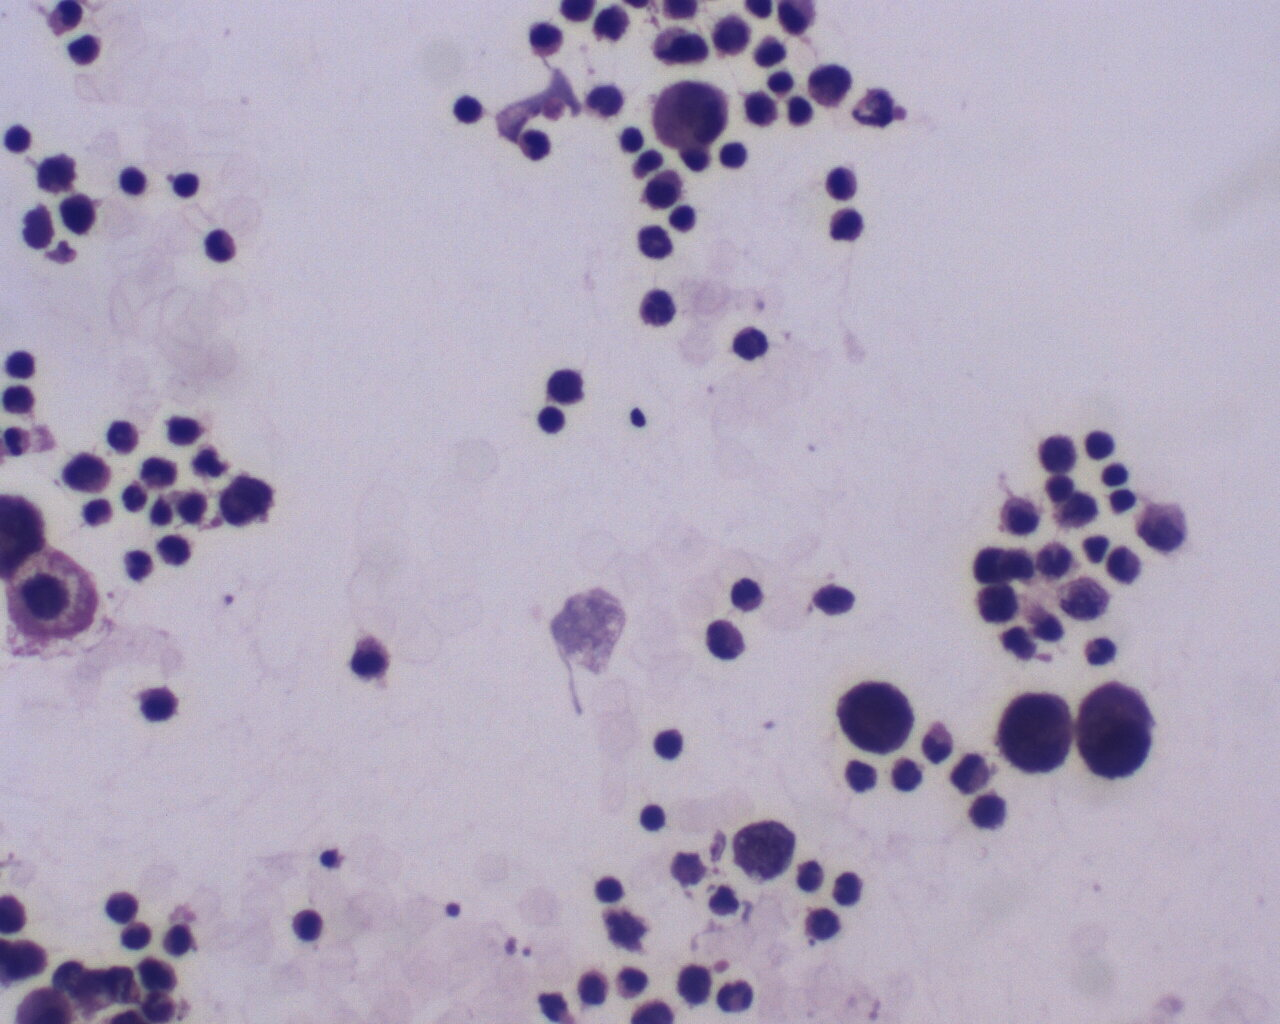ab: (1077, 678, 1159, 785), (1001, 685, 1077, 782), (828, 672, 913, 755), (653, 75, 724, 152)
lymph: (649, 721, 694, 762), (1081, 421, 1119, 462), (102, 888, 144, 925), (289, 903, 326, 945), (451, 91, 490, 130), (4, 119, 39, 159), (161, 921, 195, 958), (637, 801, 674, 835), (595, 871, 628, 907), (117, 163, 150, 197), (535, 404, 569, 436)
neutro: (699, 610, 755, 667), (199, 220, 241, 270), (921, 720, 960, 768), (711, 978, 759, 1016)
